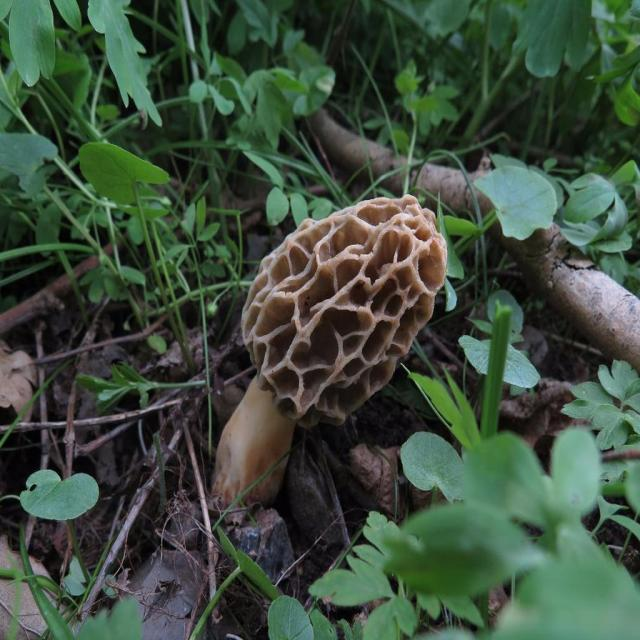Morchella esculenta: (214, 195, 446, 503)
